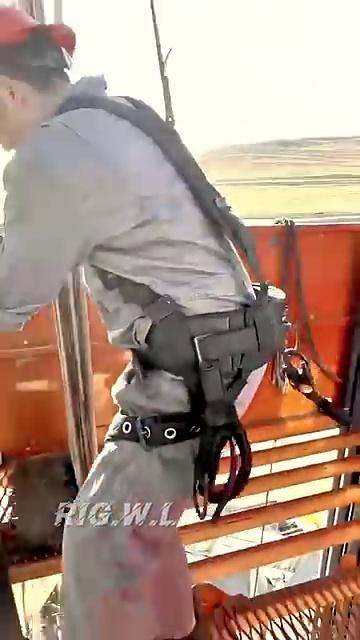helmet: (0, 3, 115, 60)
worker: (1, 3, 238, 640)
